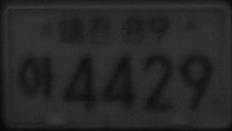2: (141, 52, 174, 112)
4: (100, 54, 138, 110), (63, 54, 99, 112)
8: (122, 16, 146, 45)
9: (179, 52, 213, 109), (148, 15, 171, 42)
대전_H: (58, 15, 112, 45)
아: (17, 54, 56, 101)
